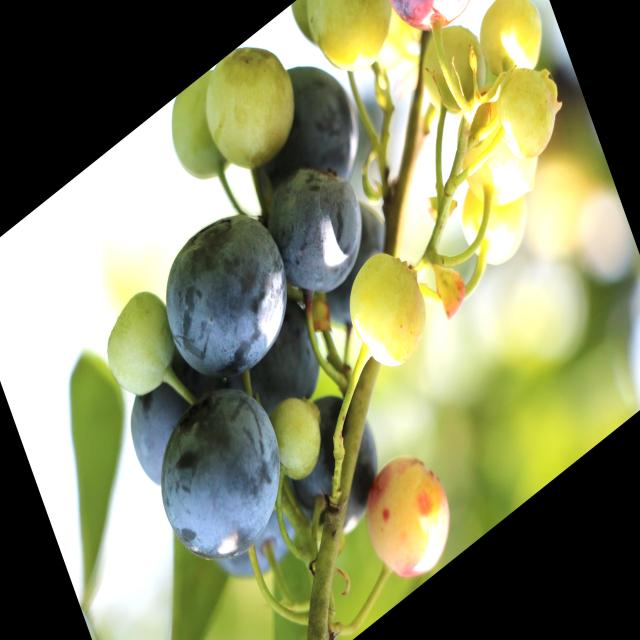blueberry: (141, 361, 302, 595), (147, 186, 307, 412), (227, 35, 376, 244), (258, 136, 379, 318), (274, 379, 394, 556), (118, 351, 220, 494), (240, 290, 336, 427)
blueberry-halfripe: (351, 429, 467, 602), (369, 0, 492, 56)
blueberry-unripe: (191, 21, 310, 195), (339, 235, 438, 388), (94, 277, 186, 415), (158, 65, 248, 202), (455, 97, 544, 230), (293, 0, 407, 103), (487, 46, 573, 180), (415, 9, 498, 132), (457, 164, 538, 279), (468, 0, 555, 104), (261, 381, 333, 494)
